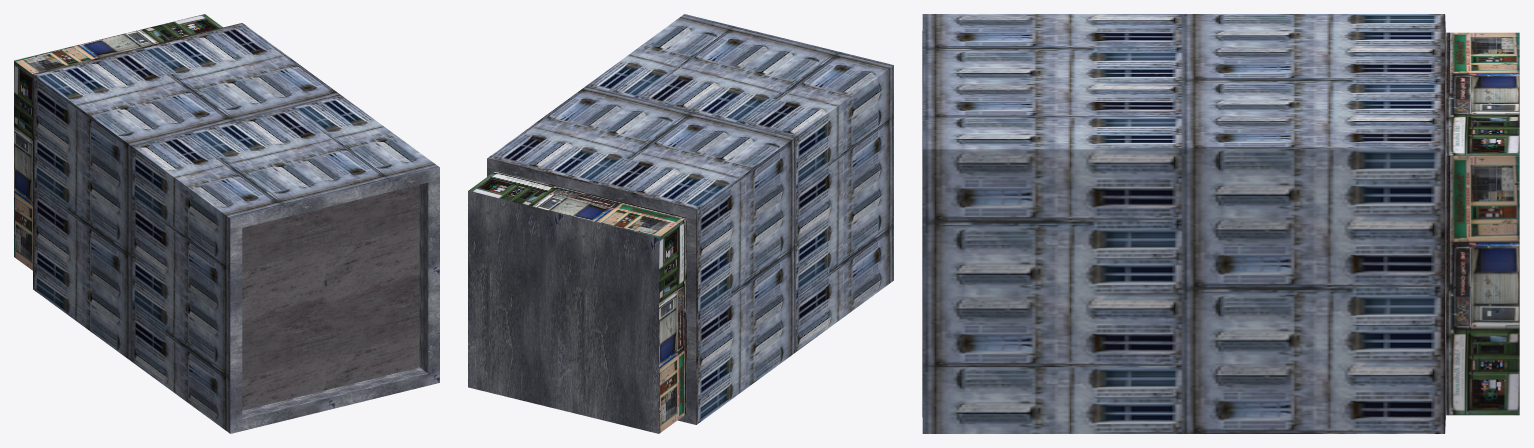
Rendered from urbanflats2Aa_wtf.obj.
3 renders of one model, left to right at view 1: azimuth 30°, elevation 25°; view 2: azimuth 150°, elevation 25°; view 3: azimuth 270°, elevation 25°, orthographic. The views are drawn at different scales.
Parts seen in each view (by area): view 1: group5, group4, group3; view 2: group5, group3; view 3: group5, group3.
Boxes of the visible parts, <box> form: group5: <box>14,14,439,433</box>; group4: <box>242,184,419,410</box>; group3: <box>230,167,439,433</box>; group5: <box>468,14,893,433</box>; group3: <box>468,158,696,433</box>; group5: <box>922,14,1519,433</box>; group3: <box>922,15,1445,432</box>.
Bounding box in the file's own units: 354 × 347 × 660.
